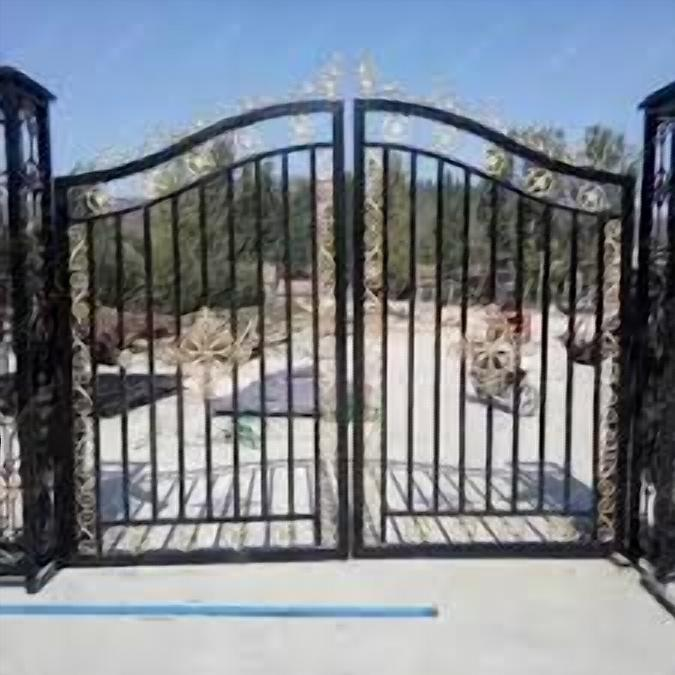Car: (214, 363, 338, 423)
Gate: (48, 93, 637, 567)
